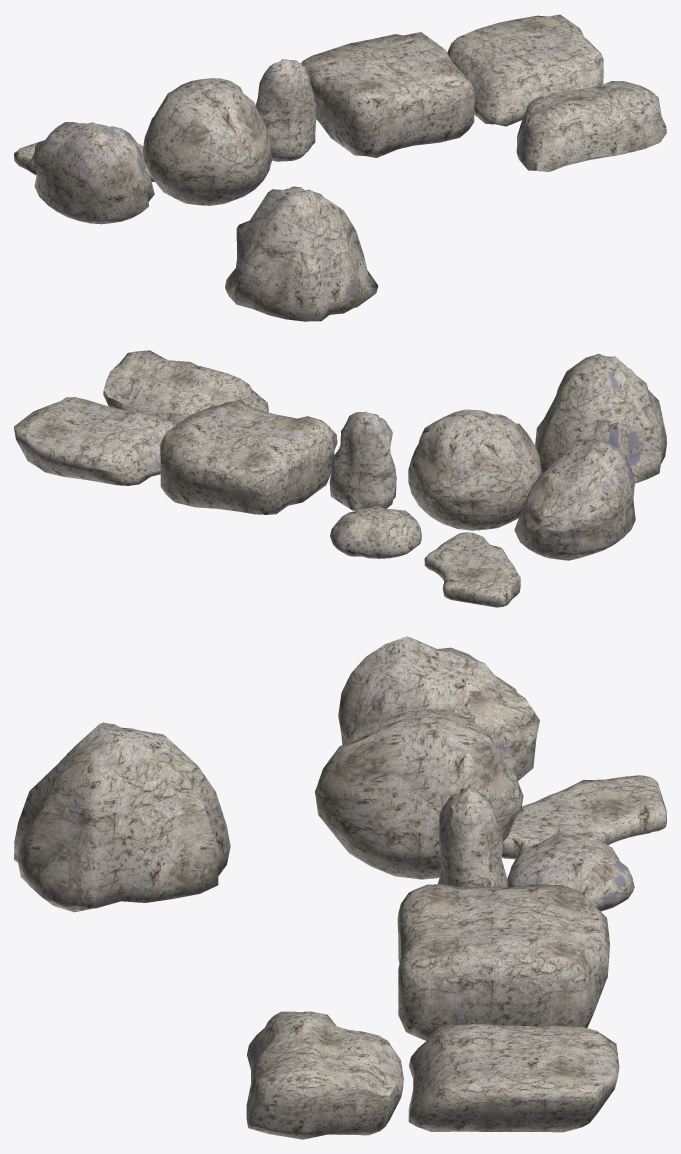
File: boulders.fbx
3 views of the same model, one above another, from view 1: azimuth 30°, elevation 25°; view 2: azimuth 150°, elevation 25°; view 3: azimuth 270°, elevation 25° (orthographic). The views are drawn at different scales.
Visible parts, largest first — view 1: Boulder_005_1, boulder_009_1, Boulder_002_1, Boulder_006_1, Boulder_007_1, Boulder_001_1, Boulder_003_1, boulder_008_1; view 2: Boulder_005_1, Boulder_002_1, Boulder_001_1, boulder_009_1, Boulder_006_1, Boulder_007_1, Boulder_003_1, boulder_008_1, Boulder_004_1; view 3: boulder_009_1, Boulder_005_1, Boulder_002_1, Boulder_006_1, Boulder_007_1, Boulder_001_1, boulder_008_1, Boulder_004_1, Boulder_003_1.
Boxes of the visible parts, <box> form: Boulder_005_1: <box>301,32,474,157</box>; boulder_009_1: <box>225,186,378,321</box>; Boulder_002_1: <box>142,78,272,205</box>; Boulder_006_1: <box>447,14,603,126</box>; Boulder_007_1: <box>516,81,666,171</box>; Boulder_001_1: <box>30,122,154,224</box>; Boulder_003_1: <box>255,59,316,161</box>; boulder_008_1: <box>14,140,154,181</box>; Boulder_005_1: <box>160,400,337,514</box>; Boulder_002_1: <box>408,409,541,530</box>; Boulder_001_1: <box>514,440,635,560</box>; boulder_009_1: <box>535,353,666,483</box>; Boulder_006_1: <box>14,397,175,485</box>; Boulder_007_1: <box>103,350,268,424</box>; Boulder_003_1: <box>329,411,396,510</box>; boulder_008_1: <box>424,532,520,607</box>; Boulder_004_1: <box>330,505,421,558</box>; boulder_009_1: <box>14,722,230,912</box>; Boulder_005_1: <box>397,884,609,1040</box>; Boulder_002_1: <box>315,709,523,879</box>; Boulder_006_1: <box>408,1024,619,1132</box>; Boulder_007_1: <box>246,1011,403,1139</box>; Boulder_001_1: <box>338,636,539,780</box>; boulder_008_1: <box>502,775,666,859</box>; Boulder_004_1: <box>507,834,634,911</box>; Boulder_003_1: <box>438,787,508,887</box>.
Size of the model in its own units: 13.37 by 2.87 by 9.5.
